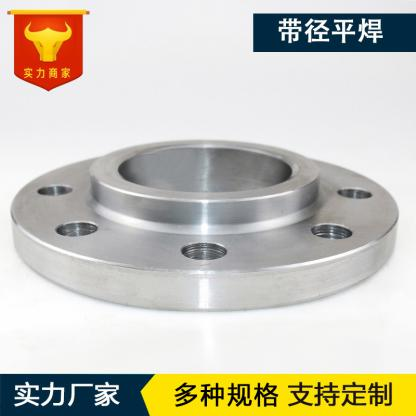FOD: (6, 136, 400, 315)
